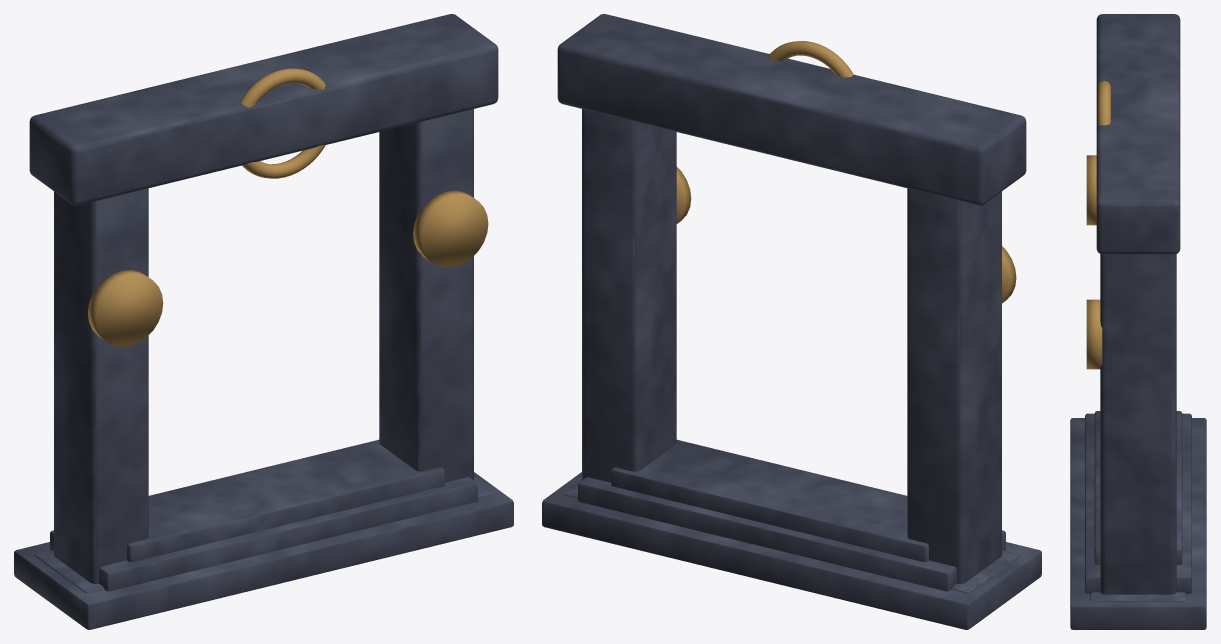
The model's file is ruin_gate.glb.
3 views of the same model, side by side, from view 1: azimuth 30°, elevation 25°; view 2: azimuth 150°, elevation 25°; view 3: azimuth 270°, elevation 25° (orthographic). The views are drawn at different scales.
Parts seen in each view (by area): view 1: Lintel, PillarR, PillarL, Step1, Step3, Step2, RingL, RingR, Keystone, BaseR; view 2: Lintel, PillarR, PillarL, Step1, Step3, Step2, Keystone, BaseR; view 3: PillarL, Lintel, Step1, Step2, Step3, RingL, BaseL, RingR, Keystone.
Boxes of the visible parts, x1=… form: Lintel: x1=29, y1=14, x2=498, y2=205; PillarR: x1=54, y1=188, x2=148, y2=583; PillarL: x1=379, y1=109, x2=473, y2=482; Step1: x1=14, y1=472, x2=513, y2=629; Step3: x1=127, y1=439, x2=444, y2=562; Step2: x1=50, y1=477, x2=477, y2=591; RingL: x1=413, y1=190, x2=488, y2=267; RingR: x1=88, y1=270, x2=163, y2=347; Keystone: x1=240, y1=68, x2=325, y2=178; BaseR: x1=35, y1=550, x2=104, y2=593; Lintel: x1=557, y1=14, x2=1026, y2=205; PillarR: x1=907, y1=188, x2=1001, y2=583; PillarL: x1=582, y1=109, x2=676, y2=482; Step1: x1=542, y1=472, x2=1041, y2=629; Step3: x1=611, y1=439, x2=928, y2=562; Step2: x1=578, y1=477, x2=1005, y2=591; Keystone: x1=768, y1=41, x2=853, y2=77; BaseR: x1=951, y1=550, x2=1020, y2=593; PillarL: x1=1100, y1=254, x2=1176, y2=594; Lintel: x1=1096, y1=14, x2=1180, y2=254; Step1: x1=1070, y1=418, x2=1206, y2=629; Step2: x1=1085, y1=413, x2=1191, y2=593; Step3: x1=1094, y1=411, x2=1182, y2=564; RingL: x1=1086, y1=299, x2=1102, y2=369; BaseL: x1=1090, y1=592, x2=1186, y2=601; RingR: x1=1086, y1=155, x2=1096, y2=225; Keystone: x1=1098, y1=80, x2=1110, y2=125.
Size of the model in its own units: 4.6 by 5.1 by 1.4.
Materials: 11 (8 with a texture image).
